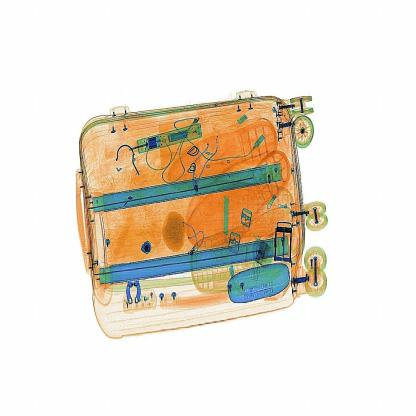pliers: (217, 185, 236, 253)
